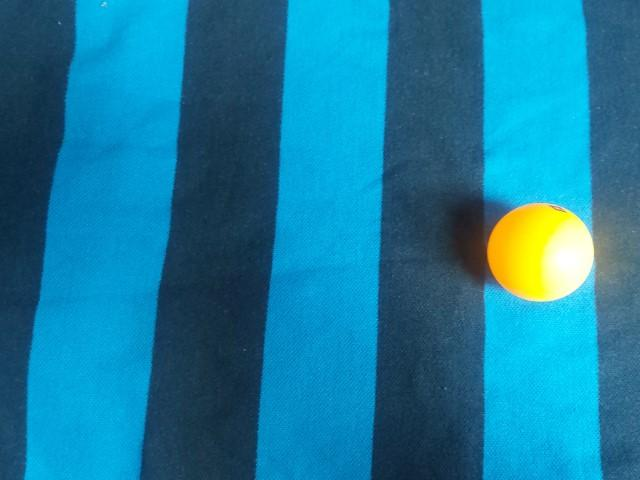oball: (41, 171, 158, 286)
